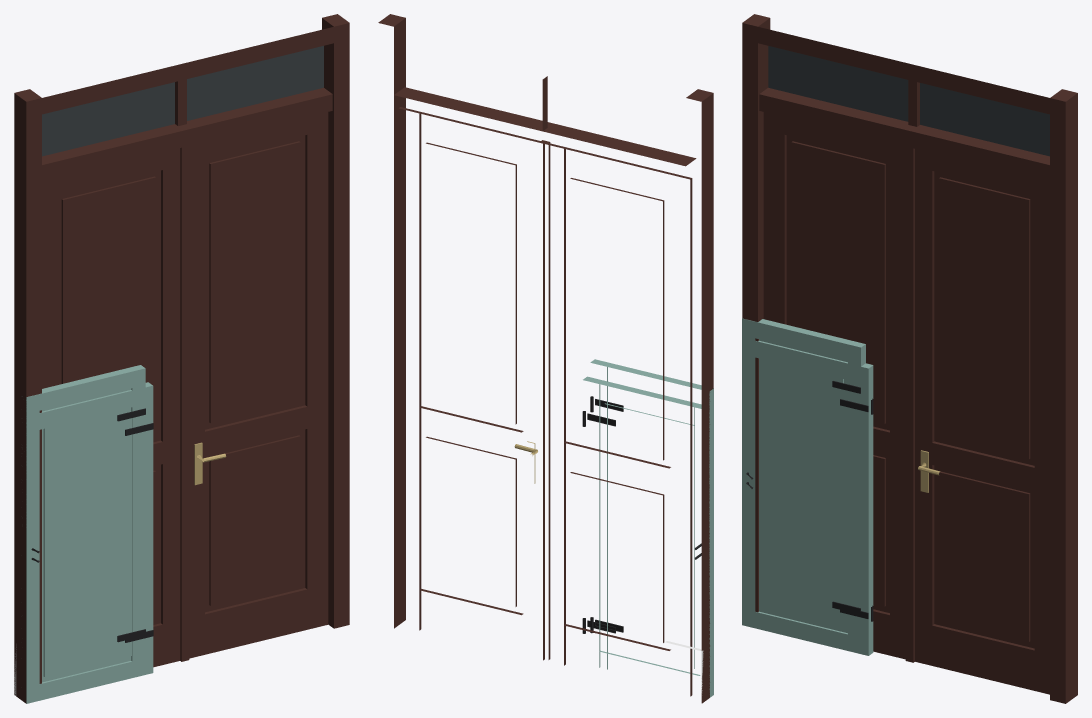
File: msk2-merchant-fittings.glb
3 views of the same model, side by side, from view 1: azimuth 30°, elevation 25°; view 2: azimuth 150°, elevation 25°; view 3: azimuth 330°, elevation 25° (orthographic).
Parts seen in each view (by area): view 1: door, shutter-0, shutter-1; view 2: door, shutter-0, shutter-1; view 3: door, shutter-0, shutter-1.
Boxes of the visible parts, x1=… form: door: x1=14, y1=14, x2=349, y2=703; shutter-0: x1=22, y1=365, x2=145, y2=703; shutter-1: x1=26, y1=382, x2=153, y2=702; door: x1=378, y1=14, x2=713, y2=703; shutter-0: x1=590, y1=359, x2=713, y2=697; shutter-1: x1=582, y1=376, x2=713, y2=696; door: x1=742, y1=14, x2=1077, y2=703; shutter-0: x1=742, y1=318, x2=865, y2=653; shutter-1: x1=742, y1=338, x2=873, y2=655.
Bounding box in the file's own units: 1.84 × 3.28 × 0.136.
